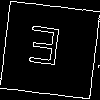E: (24, 25, 63, 75)
